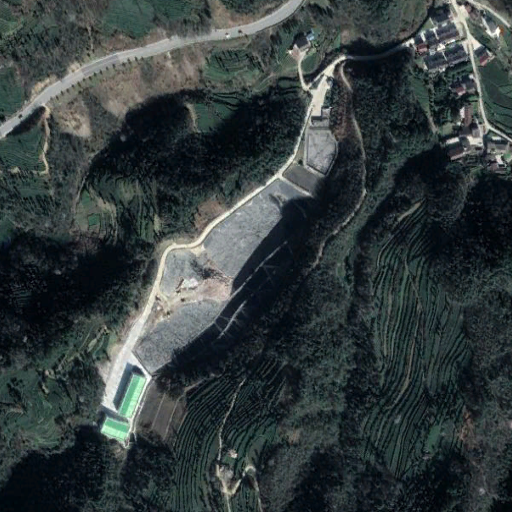lf: (132, 178, 321, 381)
